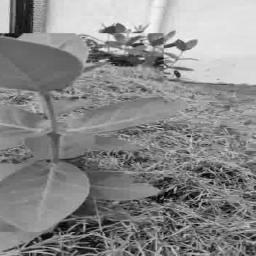CALOTROPIS: (0, 33, 165, 233)
